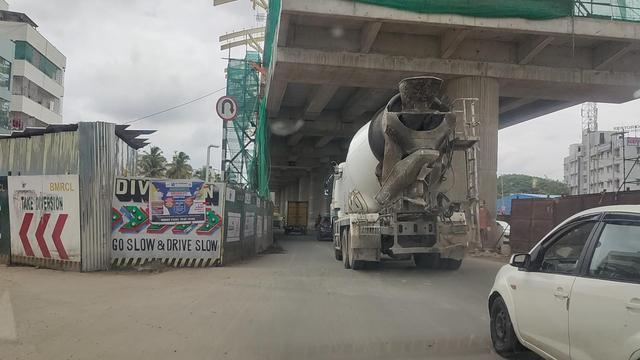HMV: (333, 75, 465, 266), (286, 200, 309, 235)
UnsurfacedRoad: (221, 260, 503, 283)
